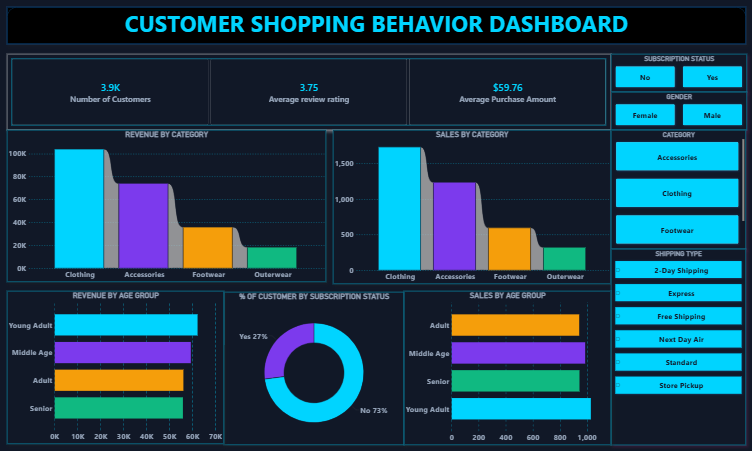

The page's visual inventory and layout, read from the dashboard file:
{"tool":"powerbi","page":{"name":"Page 1","canvas":[3000,1800],"ordinal":0},"visuals":[{"type":"cardVisual","fields":{"Data":["public customer.Number of Customers","public customer.Average review rating","public customer.Average Purchase Amount"]},"box":[27.6,228.3,2413.4,299.2],"z":0},{"type":"shape","box":[27.6,43.3,2944.9,145.7],"z":1000},{"type":"textbox","box":[27.6,43.3,2862.2,145.7],"z":2000},{"type":"donutChart","title":"% OF  CUSTOMER BY SUBSCRIPTION STATUS","fields":{"Category":["public customer.subscription_status"],"Y":["CountNonNull(public customer.customer_id)"]},"box":[881.9,1165.4,744.1,602.4],"z":3000},{"type":"columnChart","title":"REVENUE BY CATEGORY","fields":{"Category":["public customer.category"],"Y":["Sum(public customer.purchase_amount)"]},"box":[27.6,527.6,1244.1,598.4],"z":4000},{"type":"funnel","title":"SALES BY CATEGORY","fields":{"Category":["public customer.category"],"Y":["CountNonNull(public customer.customer_id)"]},"box":[1307.1,527.6,1133.9,598.4],"z":5000},{"type":"advancedSlicerVisual","title":"SUBSCRIPTION STATUS","fields":{"Values":["public customer.subscription_status"]},"box":[2440.9,228.3,535.4,149.6],"z":6000},{"type":"advancedSlicerVisual","title":"GENDER","fields":{"Values":["public customer.gender"]},"box":[2440.9,378,535.4,149.6],"z":7000},{"type":"advancedSlicerVisual","title":"CATEGORY","fields":{"Values":["public customer.category"]},"box":[2440.9,527.6,531.5,468.5],"z":8000},{"type":"listSlicer","title":"SHIPPING TYPE","fields":{"Values":["public customer.shipping_type"]},"box":[2440.9,996.1,531.5,771.7],"z":9000},{"type":"clusteredBarChart","title":"REVENUE BY AGE GROUP","fields":{"Y":["Sum(public customer.purchase_amount)"],"Category":["public customer.age_group"]},"box":[27.6,1161.4,854.3,602.4],"z":10000},{"type":"clusteredBarChart","title":"SALES  BY AGE GROUP","fields":{"Category":["public customer.age_group"],"Y":["CountNonNull(public customer.customer_id)"]},"box":[1626,1161.4,815,606.3],"z":11000}]}

Visuals, with their boxes in screenshot pixels (x1, y1, x2, y2), scaled from the page's 3000x1800 canvas onto the 752x451 screenshot:
cardVisual - public customer.Number of Customers x public customer.Average review rating: bbox=(7, 57, 612, 132)
shape: bbox=(7, 11, 745, 47)
textbox: bbox=(7, 11, 724, 47)
"% OF  CUSTOMER BY SUBSCRIPTION STATUS" donutChart: bbox=(221, 292, 408, 443)
"REVENUE BY CATEGORY" columnChart: bbox=(7, 132, 319, 282)
"SALES BY CATEGORY" funnel: bbox=(328, 132, 612, 282)
"SUBSCRIPTION STATUS" advancedSlicerVisual: bbox=(612, 57, 746, 95)
"GENDER" advancedSlicerVisual: bbox=(612, 95, 746, 132)
"CATEGORY" advancedSlicerVisual: bbox=(612, 132, 745, 250)
"SHIPPING TYPE" listSlicer: bbox=(612, 250, 745, 443)
"REVENUE BY AGE GROUP" clusteredBarChart: bbox=(7, 291, 221, 442)
"SALES  BY AGE GROUP" clusteredBarChart: bbox=(408, 291, 612, 443)
